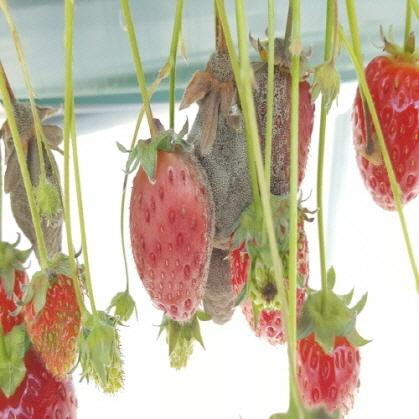Gray Mold: (129, 118, 215, 321), (179, 19, 253, 243), (0, 87, 67, 269), (248, 32, 317, 193), (202, 232, 246, 325)
